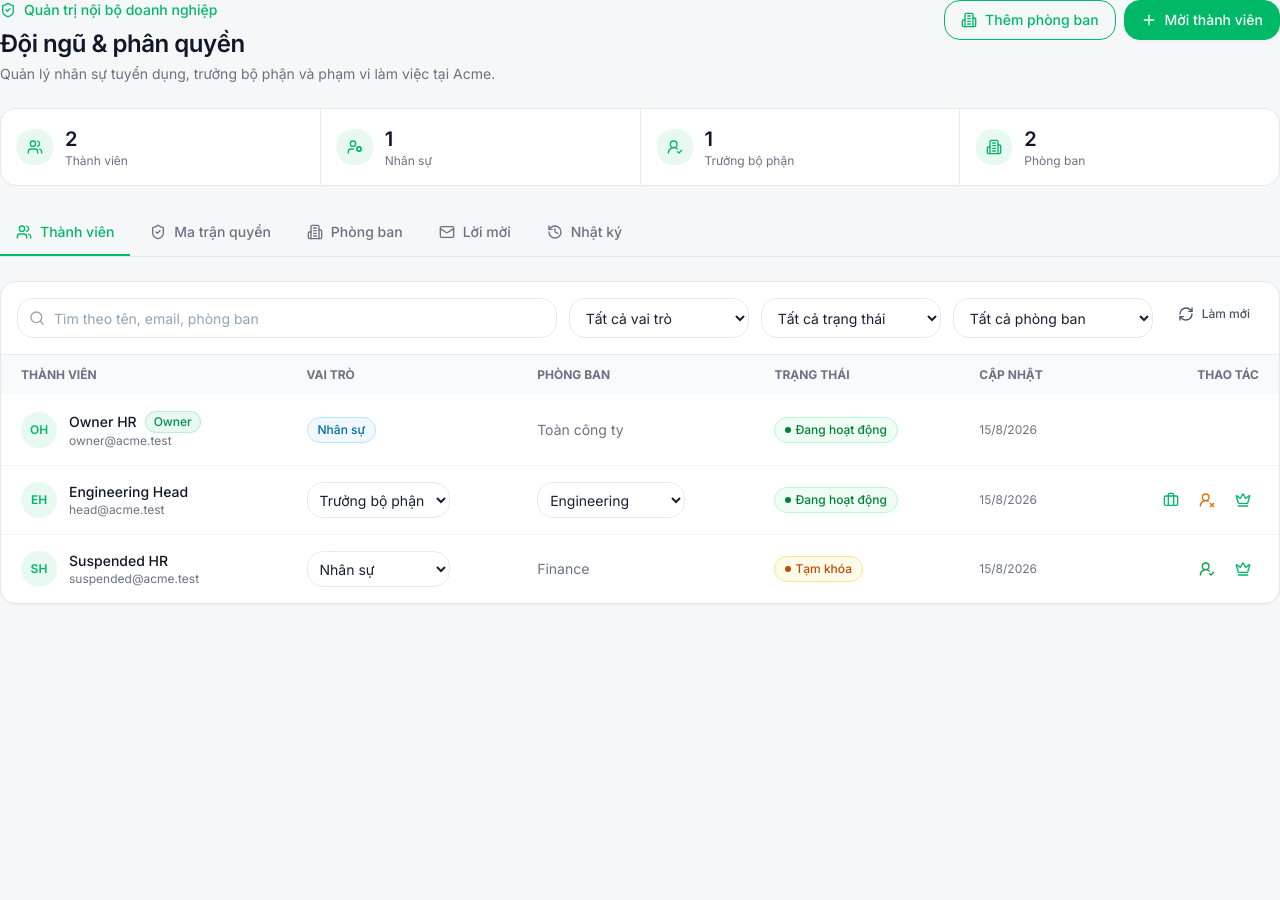
EmployerTeamPage › explains permissions and requires confirmation before changing a role
Expected: the text "Engineering Head" is shown, 69,482 -> 188,502
Click the tab "Ma trận quyền" at x=211, y=233, box 134,210 -> 287,256
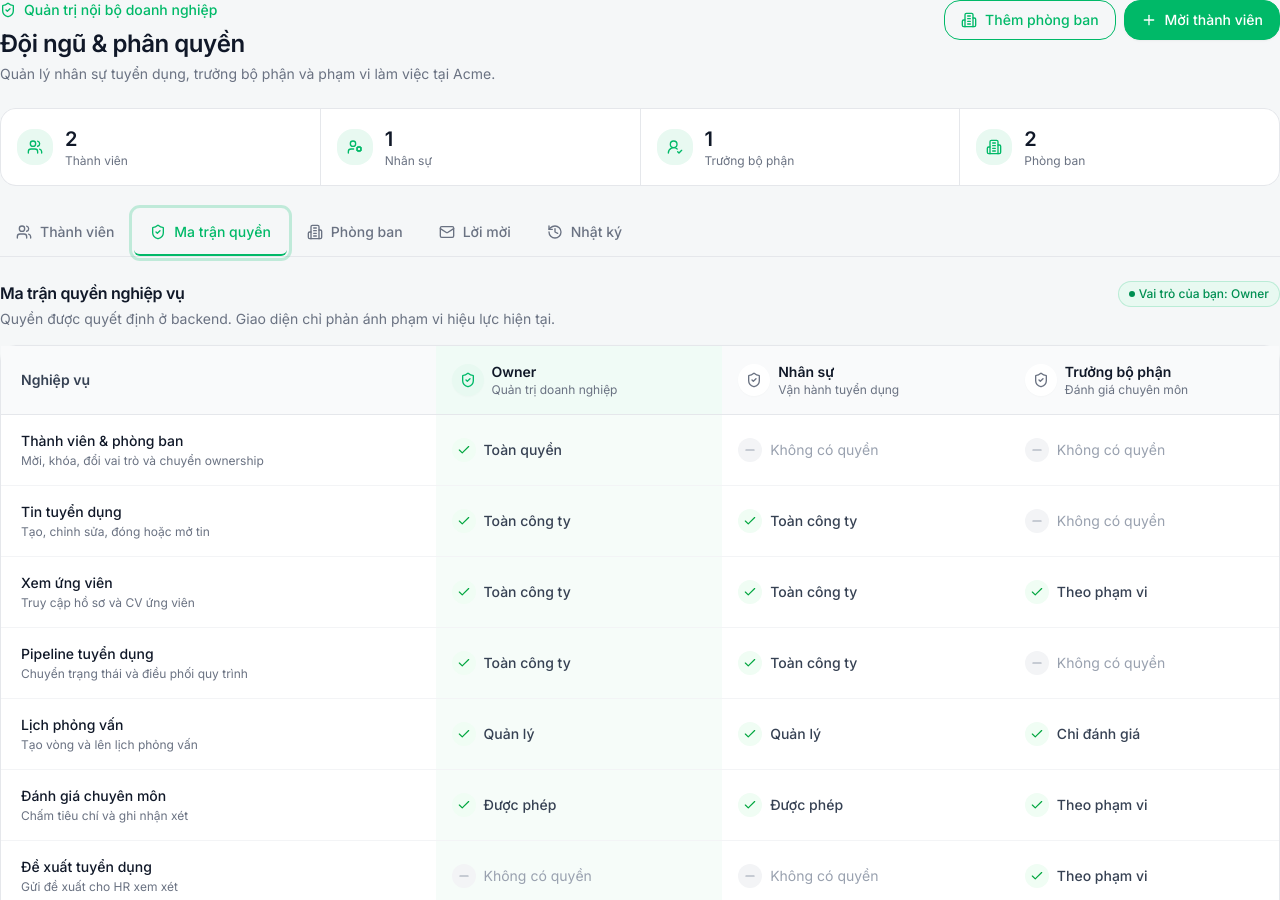
Result: the heading "Ma trận quyền nghiệp vụ" is shown at 0,283 -> 184,303
Result: the text "Vai trò của bạn: Owner" is shown at 1118,281 -> 1279,307
Click the tab "Thành viên" at x=65, y=233, box 0,210 -> 130,256
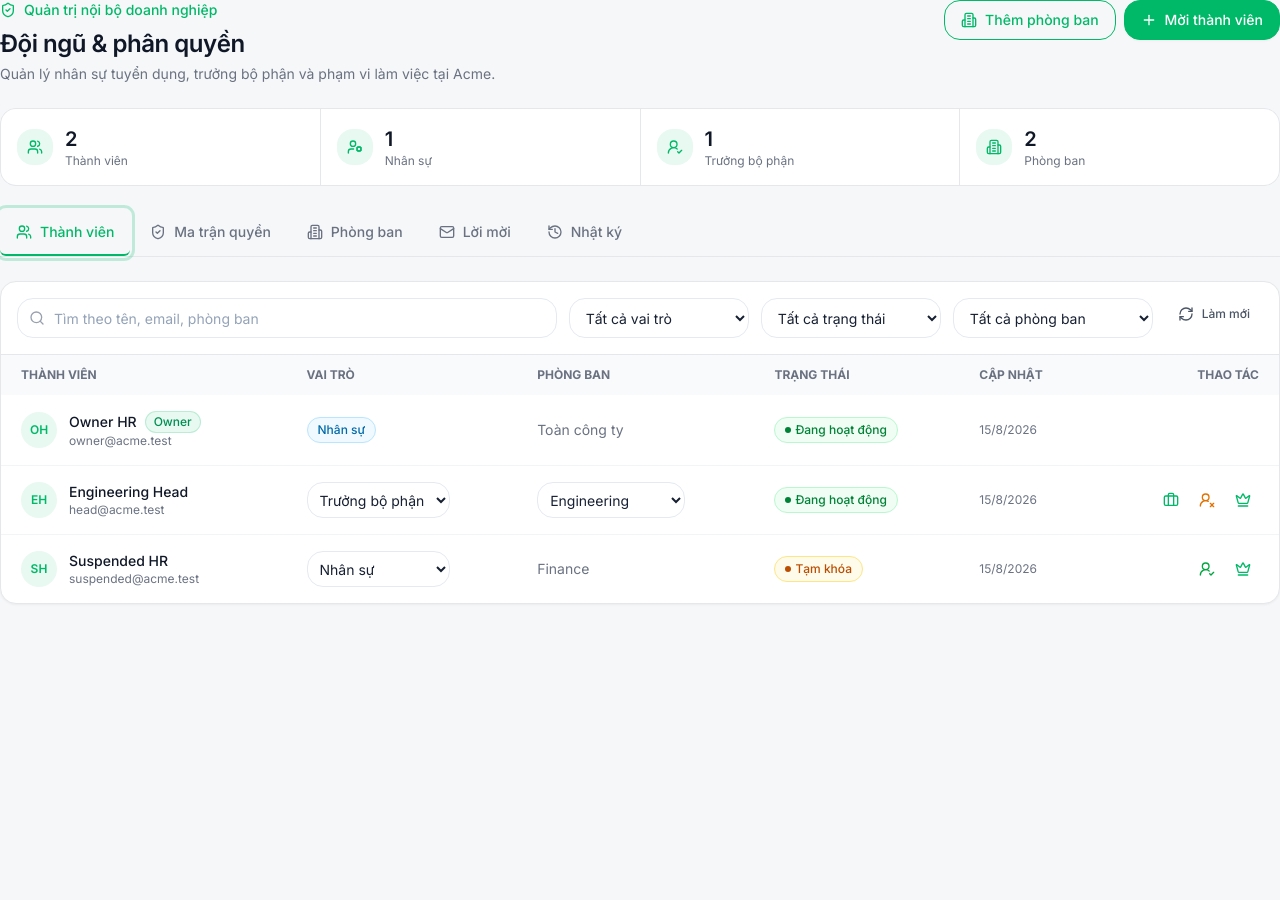
Select "Nhân sự" in the dropdown named "Vai trò của Engineering Head" at x=378, y=500, box 306,482 -> 450,518
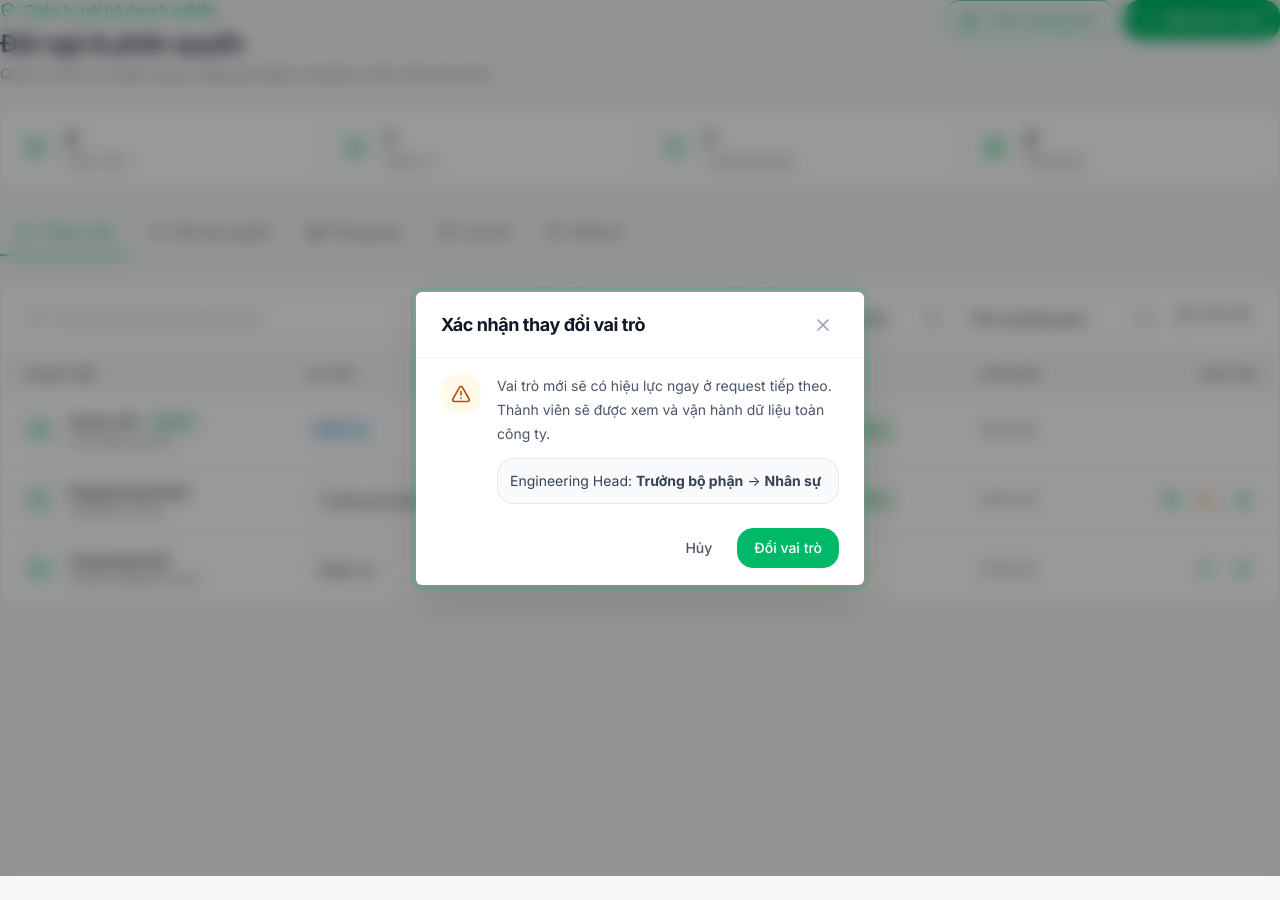
Result: the dialog "Xác nhận thay đổi vai trò" is shown at 416,292 -> 864,584
Click the button "Đổi vai trò" at x=788, y=548, box 737,528 -> 839,568
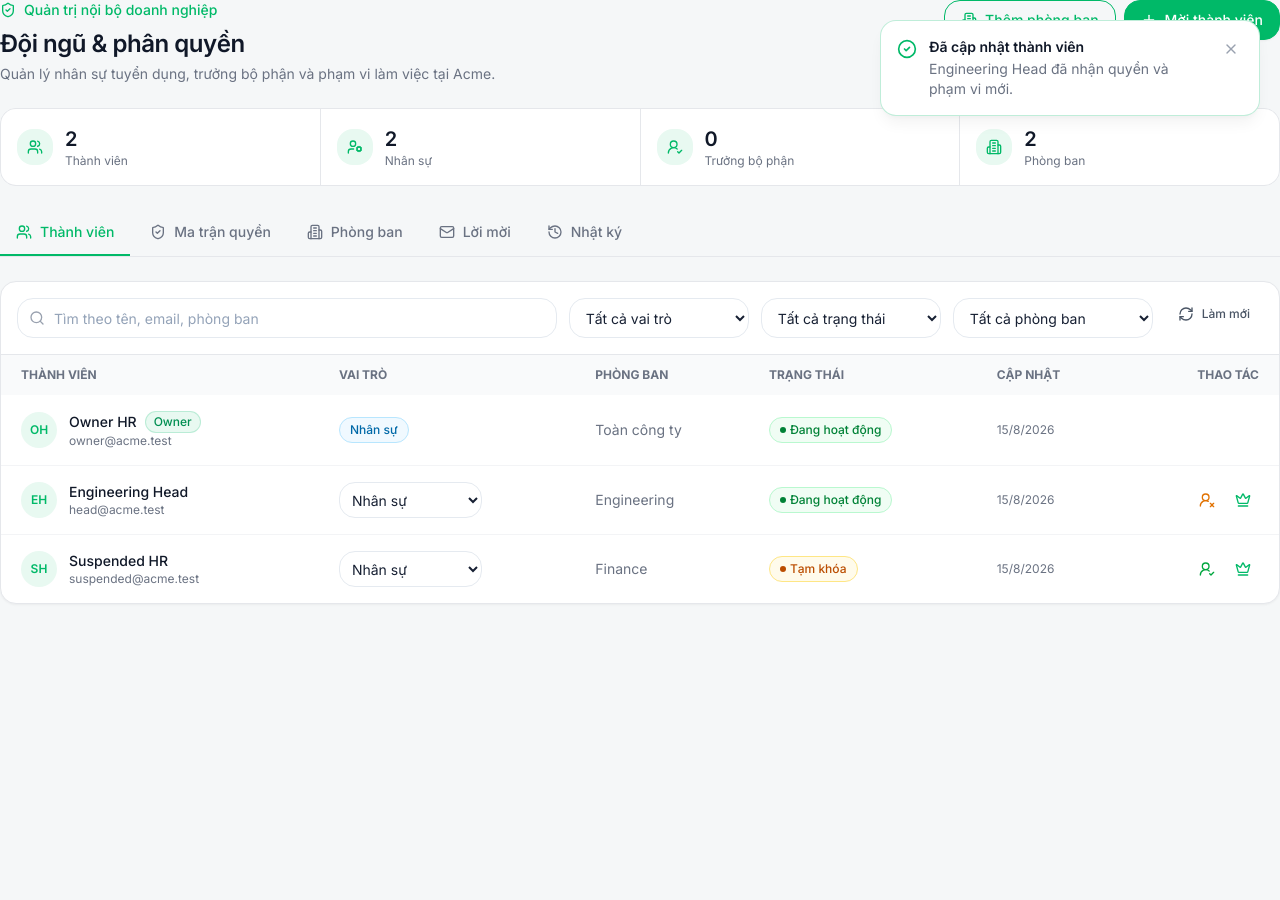
Result: the text "Đã cập nhật thành viên" is shown at 929,38 -> 1084,55
